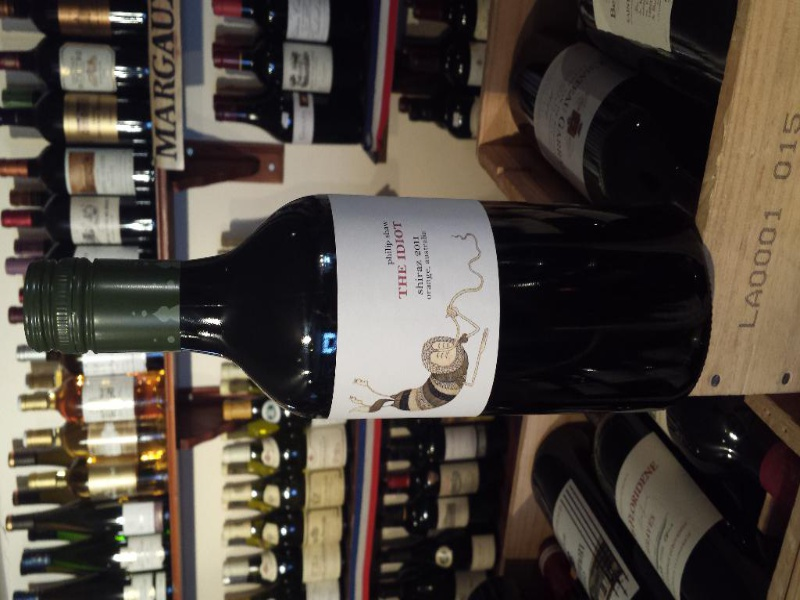wine: (1, 2, 789, 600), (11, 186, 727, 427)
